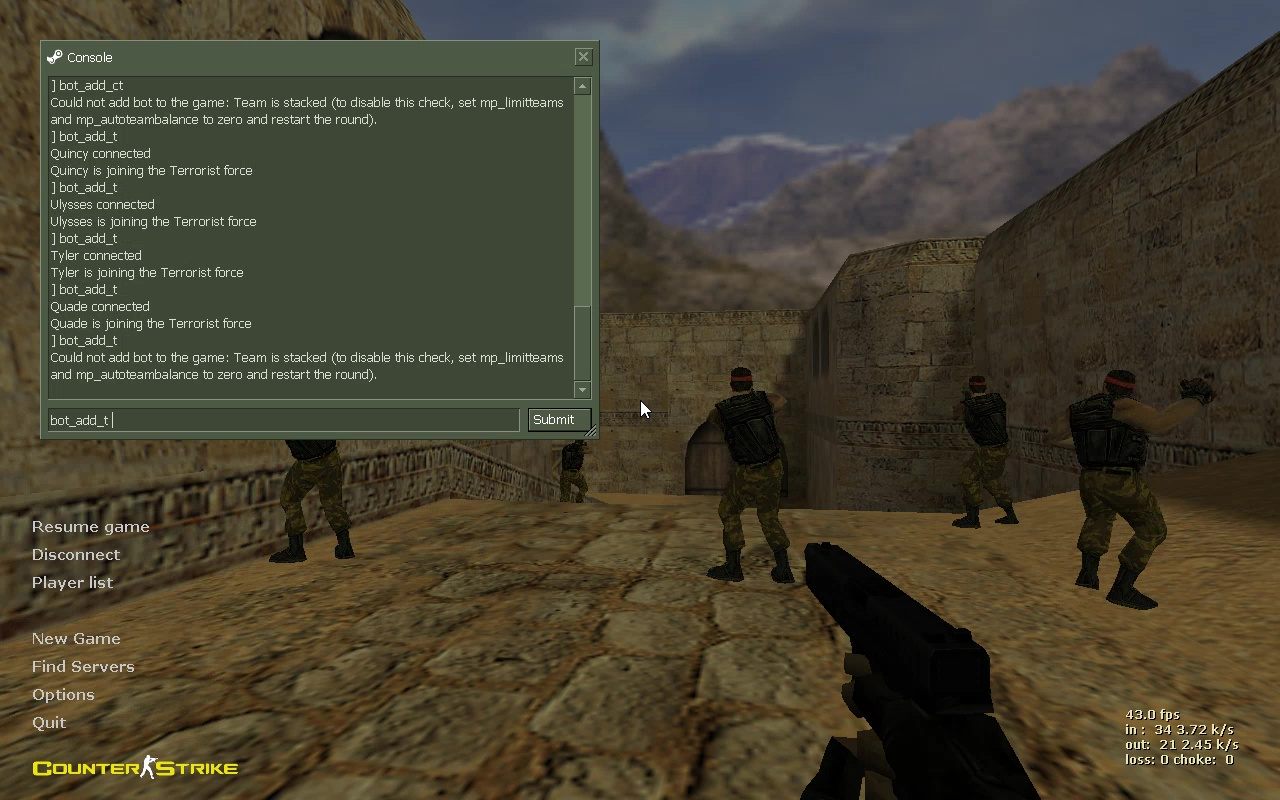terr1: (1044, 364, 1218, 615), (704, 367, 801, 582), (949, 375, 1022, 531), (556, 441, 593, 500)
